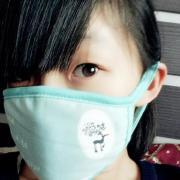OK: (6, 42, 144, 180)
